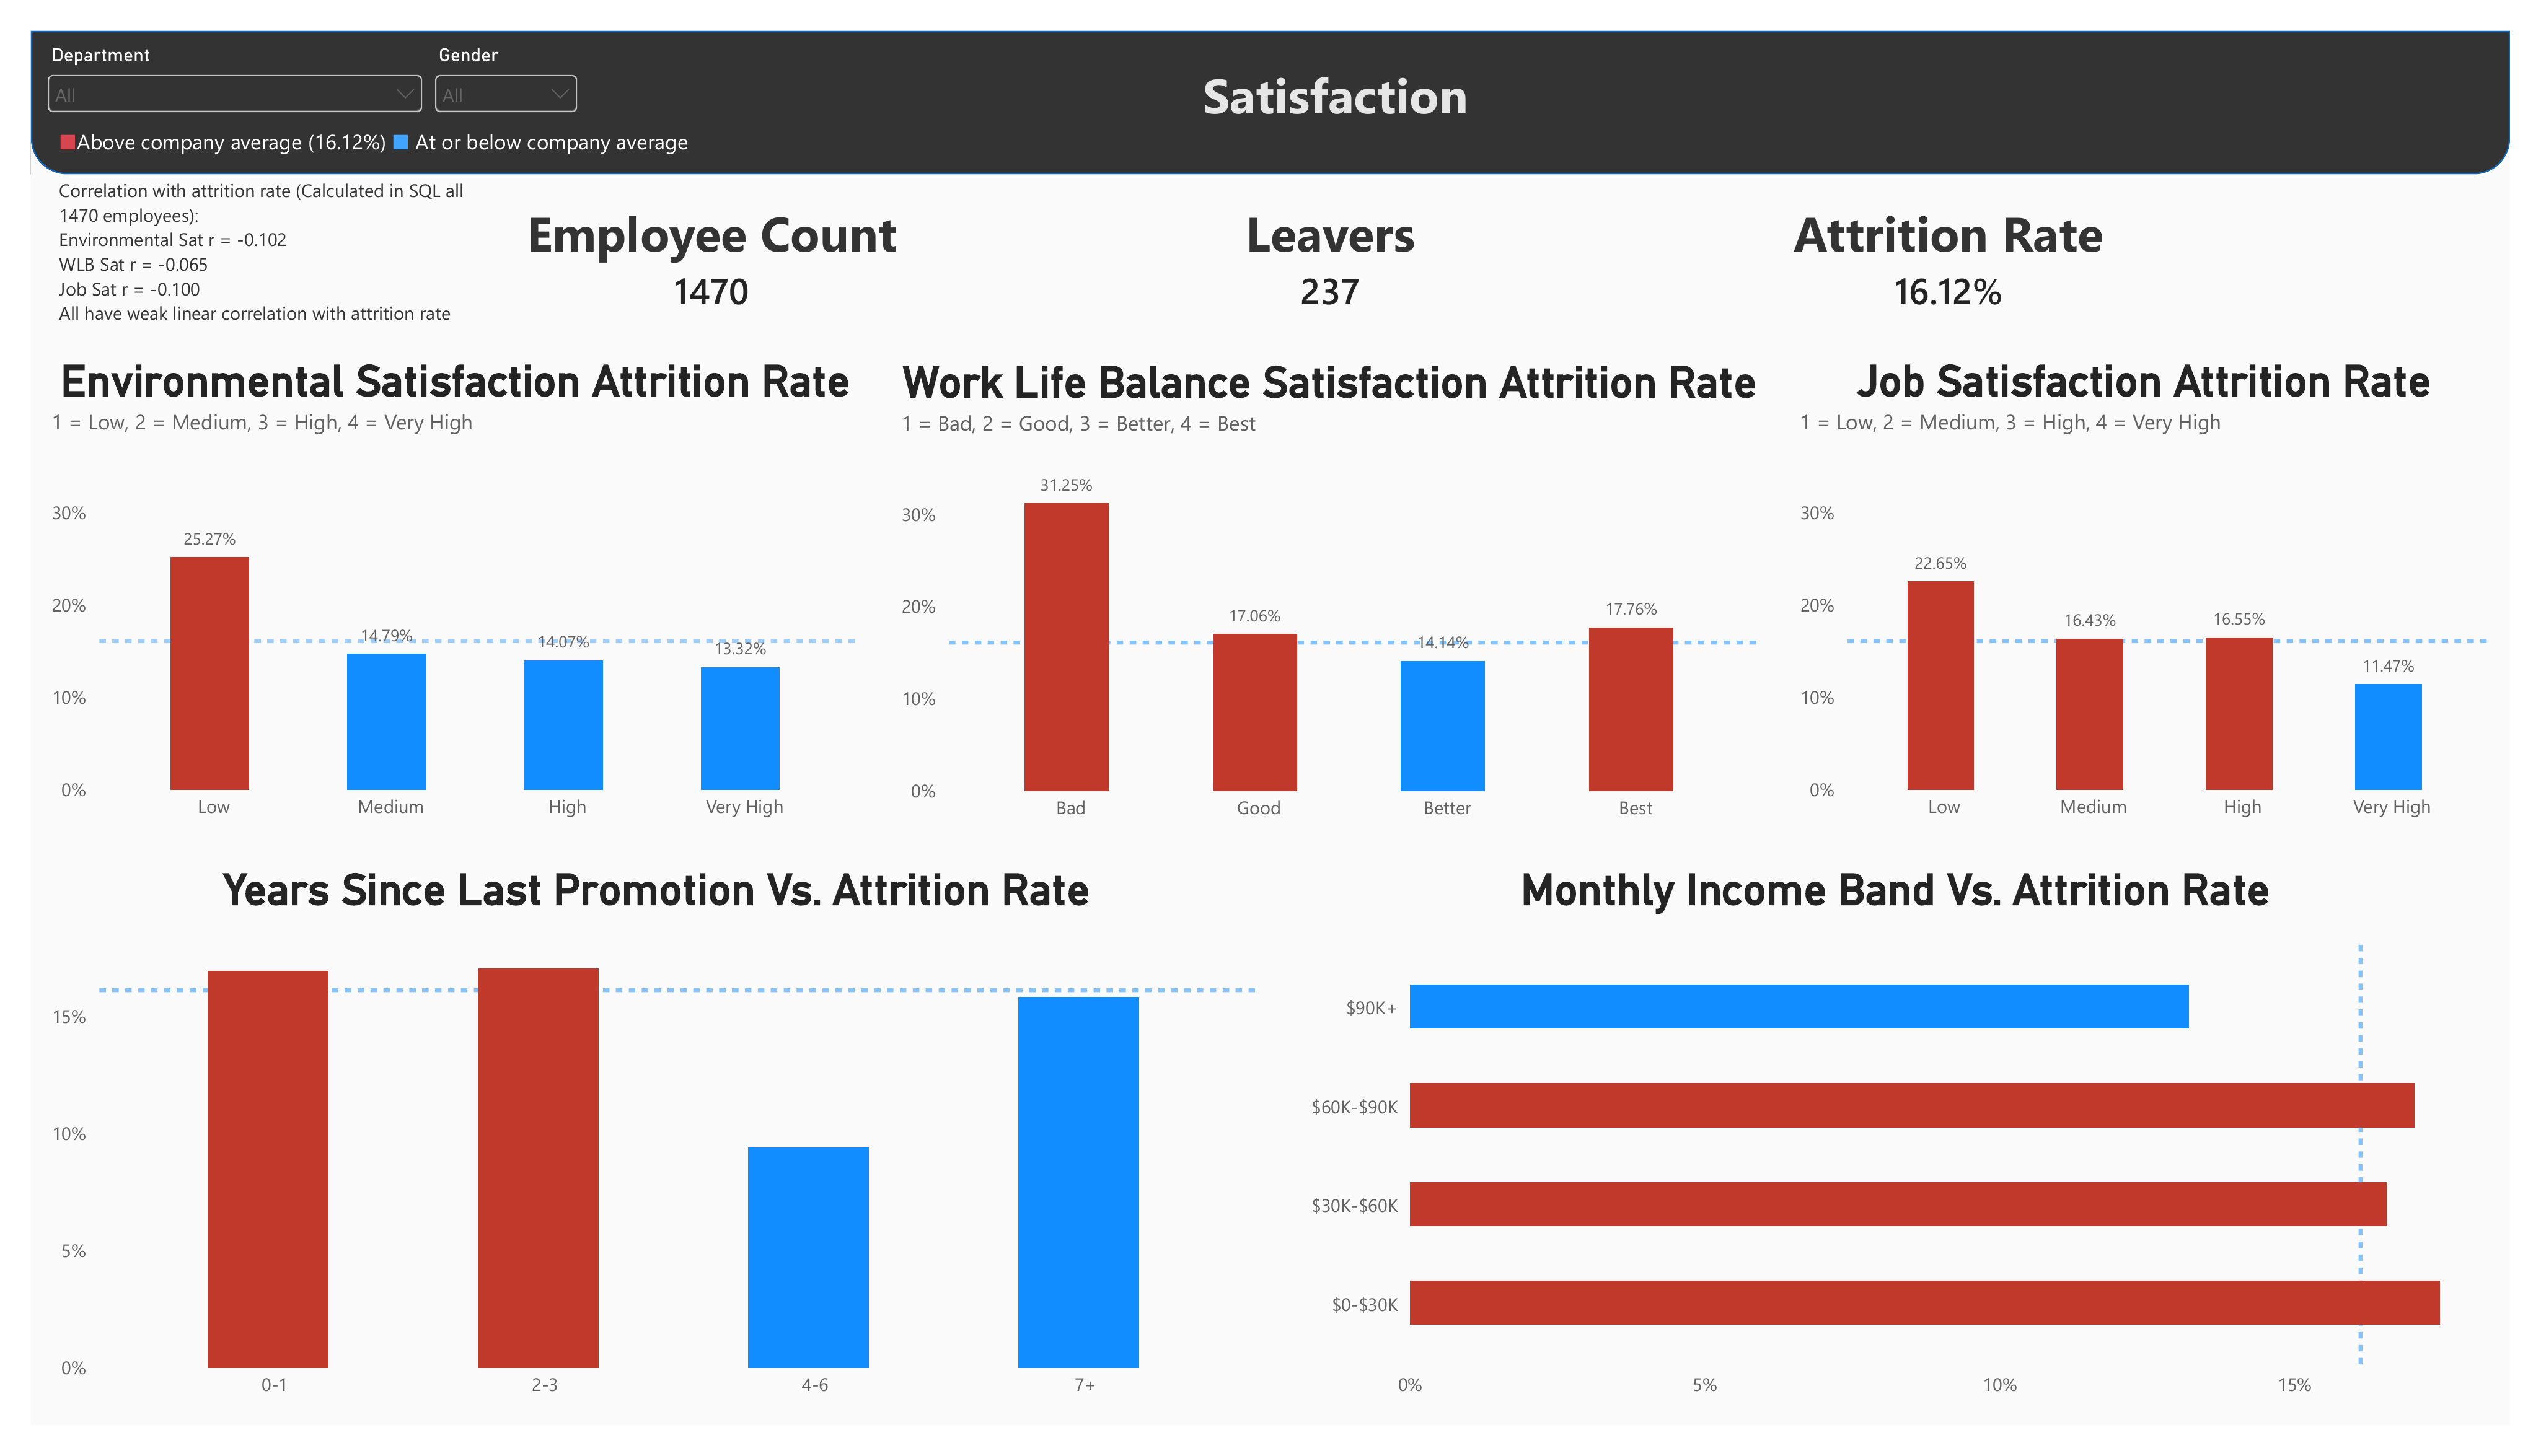

The dashboard page shown, as its layout file describes it:
{"tool":"powerbi","page":{"name":"Satisfactions","canvas":[1920,1080],"ordinal":2},"visuals":[{"type":"clusteredColumnChart","title":"Environmental Satisfaction Attrition Rate","fields":{"Category":["employee_survey.EnvironmentSat"],"Y":["_Measures.Attrition Rate"]},"box":[0,237.5,657.7,394.6],"z":0},{"type":"clusteredColumnChart","title":"Job Satisfaction Attrition Rate","fields":{"Category":["employee_survey.JobSat"],"Y":["_Measures.Attrition Rate"]},"box":[1353.6,237.5,566.4,394.6],"z":1000},{"type":"clusteredColumnChart","title":"Work Life Balance Satisfaction Attrition Rate","fields":{"Category":["employee_survey.WLBSat"],"Y":["_Measures.Attrition Rate"]},"box":[657.7,238.5,696,394.6],"z":2000},{"type":"columnChart","title":"Years Since Last Promotion Vs. Attrition Rate","fields":{"Category":["general_data.YSLP Band"],"Y":["_Measures.Attrition Rate"]},"box":[0,632.1,968.8,447.6],"z":3000},{"type":"barChart","title":"Monthly Income Band Vs. Attrition Rate","fields":{"Category":["general_data.Monthly Income Band"],"Y":["_Measures.Attrition Rate"]},"box":[968.8,632.1,951.2,447.6],"z":4000},{"type":"cardVisual","fields":{"Data":["_Measures.Employee Count"]},"box":[287.6,111.9,479,126.6],"z":5000},{"type":"cardVisual","fields":{"Data":["_Measures.Leavers"]},"box":[766.6,111.9,479,126.6],"z":6000},{"type":"cardVisual","fields":{"Data":["_Measures.Attrition Rate"]},"box":[1245.6,111.9,479,126.6],"z":7000},{"type":"shape","title":"fvdf","box":[0,0,1920,110.9],"z":8000},{"type":"textbox","box":[775.5,23.6,470.2,102.1],"z":9000},{"type":"slicer","fields":{"Values":["general_data.Department"]},"box":[7.9,10.8,300.4,63.8],"z":10000},{"type":"slicer","fields":{"Values":["general_data.Gender"]},"box":[308.2,10.8,119.8,63.8],"z":11000},{"type":"textbox","box":[21.6,74.6,505.5,39.3],"z":12000},{"type":"textbox","box":[21.6,113.9,327.9,124.7],"z":12001}]}

Visuals, with their boxes on the page's 1920x1080 design canvas (x1, y1, x2, y2). These are canvas units, not pixel positions in the 2541x1456 screenshot, which may show the page scaled, cropped or inside an application window:
"Environmental Satisfaction Attrition Rate" clusteredColumnChart: [0, 238, 658, 632]
"Job Satisfaction Attrition Rate" clusteredColumnChart: [1354, 238, 1920, 632]
"Work Life Balance Satisfaction Attrition Rate" clusteredColumnChart: [658, 238, 1354, 633]
"Years Since Last Promotion Vs. Attrition Rate" columnChart: [0, 632, 969, 1080]
"Monthly Income Band Vs. Attrition Rate" barChart: [969, 632, 1920, 1080]
cardVisual - _Measures.Employee Count: [288, 112, 767, 238]
cardVisual - _Measures.Leavers: [767, 112, 1246, 238]
cardVisual - _Measures.Attrition Rate: [1246, 112, 1725, 238]
"fvdf" shape: [0, 0, 1920, 111]
textbox: [776, 24, 1246, 126]
slicer - general_data.Department: [8, 11, 308, 75]
slicer - general_data.Gender: [308, 11, 428, 75]
textbox: [22, 75, 527, 114]
textbox: [22, 114, 350, 239]
